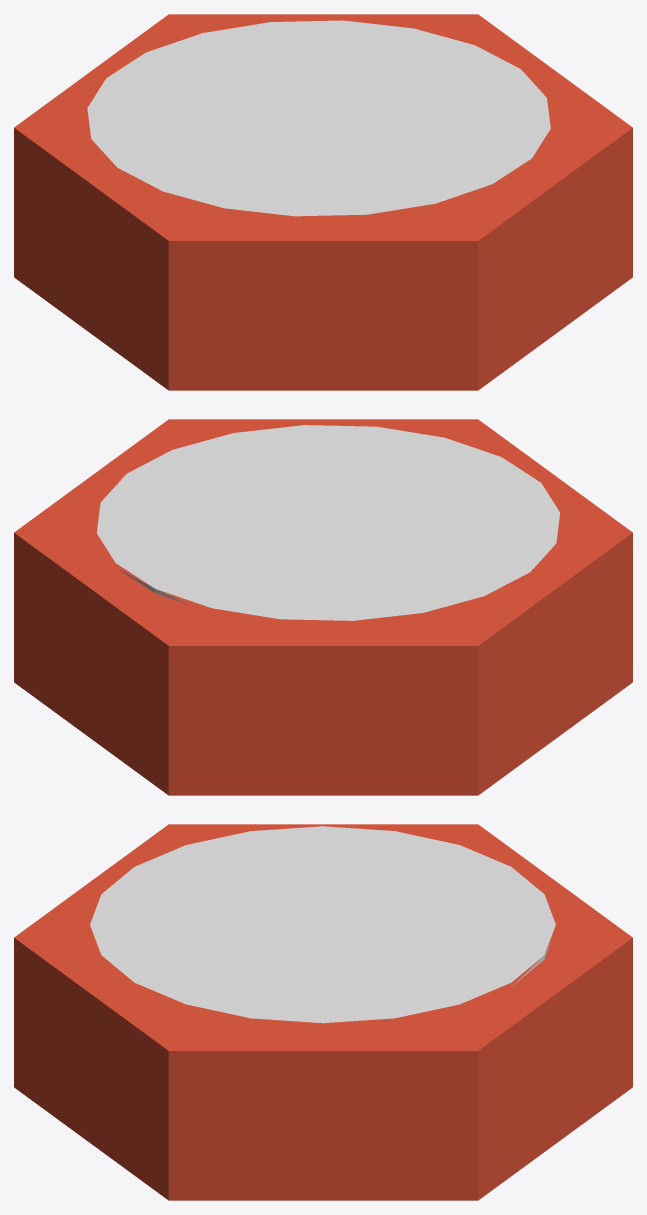
Rendered from casilla.fbx.
3 renders of one model, top to bottom at view 1: azimuth 30°, elevation 25°; view 2: azimuth 150°, elevation 25°; view 3: azimuth 270°, elevation 25°, orthographic.
Parts seen in each view (by area): view 1: Circle.001, MP_Brick_Terrain.003; view 2: Circle.001, MP_Brick_Terrain.003; view 3: Circle.001, MP_Brick_Terrain.003.
Boxes of the visible parts, x1,y1,x2,y2 form: Circle.001: [14, 14, 632, 390]; MP_Brick_Terrain.003: [87, 20, 550, 216]; Circle.001: [14, 419, 632, 795]; MP_Brick_Terrain.003: [97, 425, 559, 620]; Circle.001: [14, 824, 632, 1200]; MP_Brick_Terrain.003: [90, 826, 555, 1023].
Bounding box in the file's own units: 1956 × 645 × 2258.
